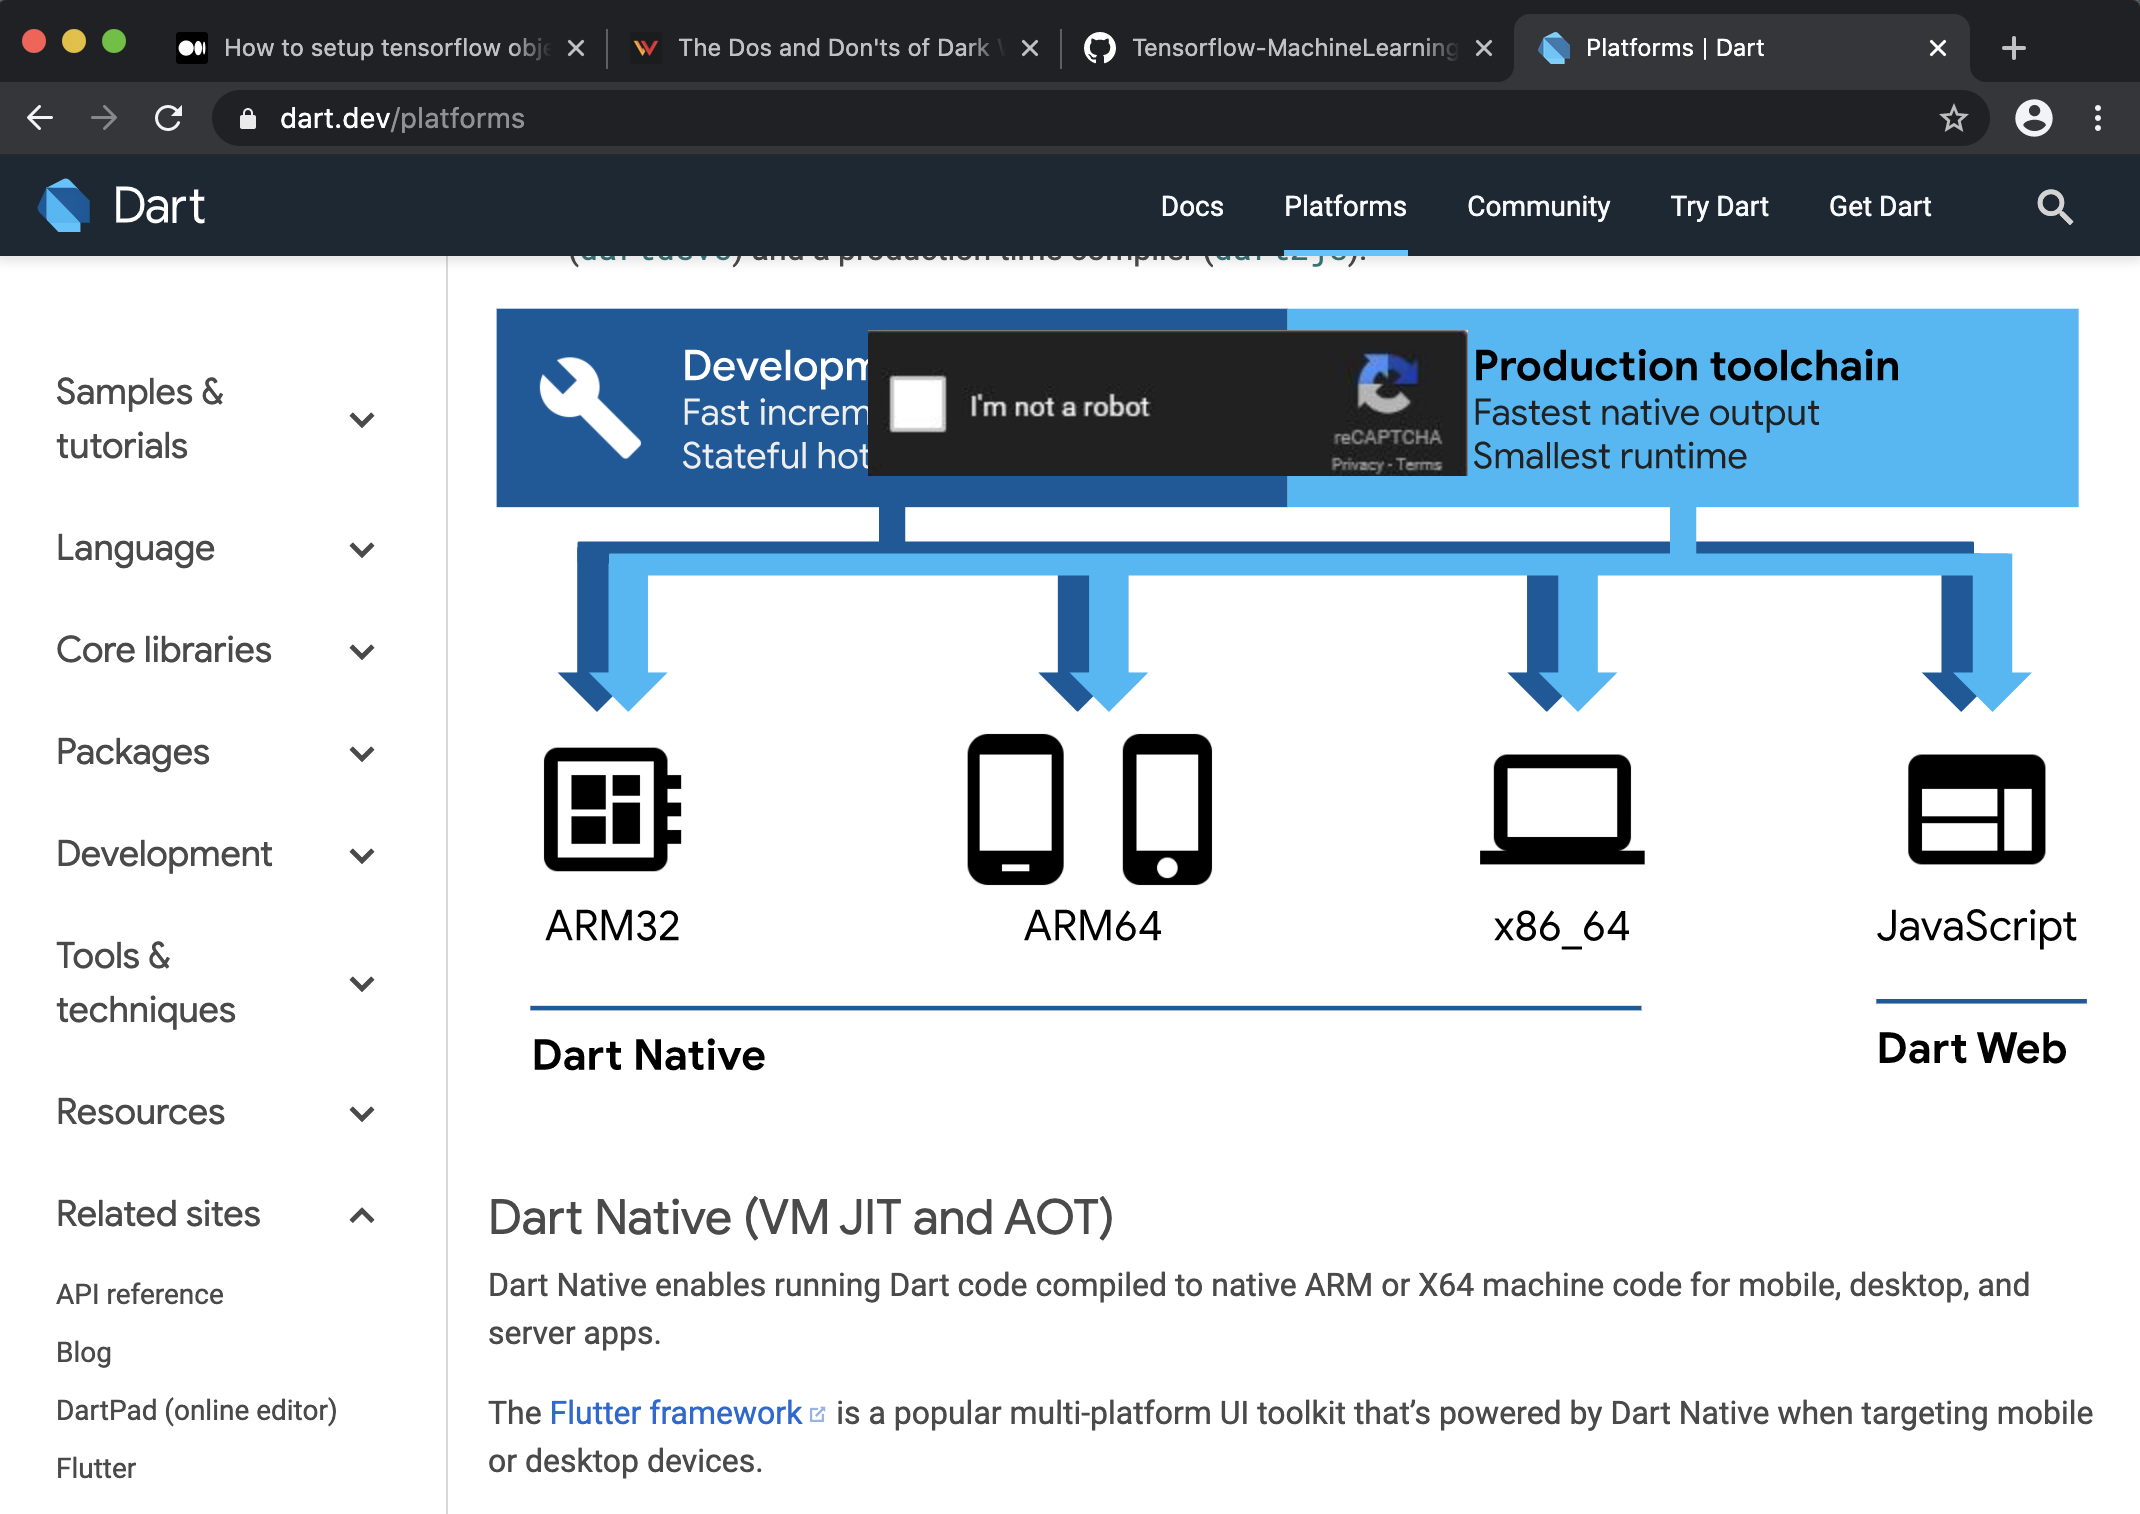captcha: (859, 324, 1493, 488)
